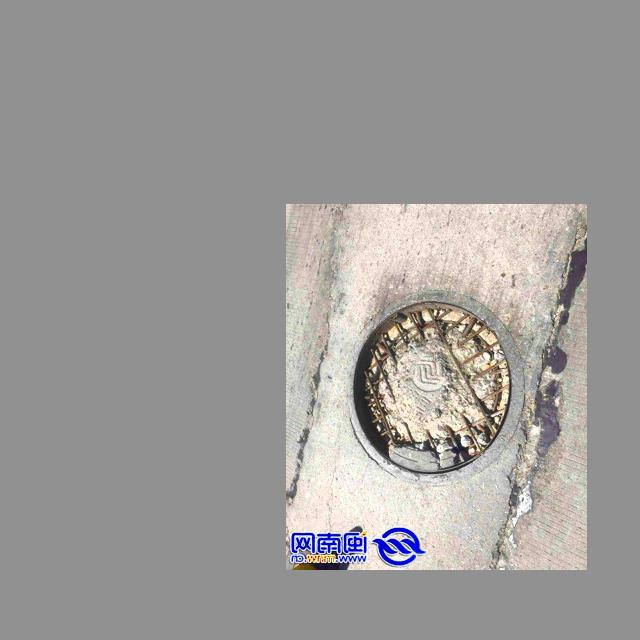broke: (338, 292, 535, 480)
